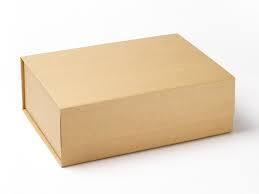box: (20, 34, 235, 167)
